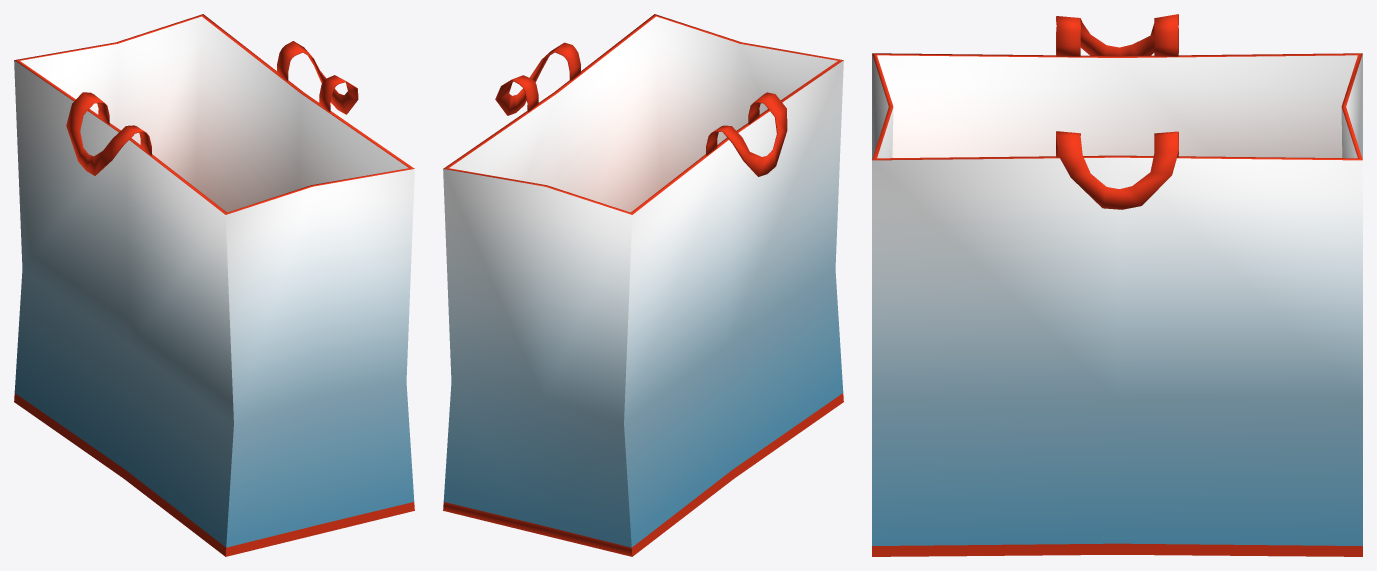
File: shopping_bag.glb
3 renders of one model, left to right at view 1: azimuth 30°, elevation 25°; view 2: azimuth 150°, elevation 25°; view 3: azimuth 270°, elevation 25°, orthographic. The views are drawn at different scales.
Visible parts, largest first — view 1: shopping_bag; view 2: shopping_bag; view 3: shopping_bag.
Part boxes in pixels (box(x1,y1,x2,y2)): shopping_bag: box(14, 14, 414, 556); shopping_bag: box(443, 14, 843, 556); shopping_bag: box(872, 14, 1362, 556).
Bounding box in the file's own units: 0.3443 × 0.4832 × 0.5.
1 material, 1 textured.
